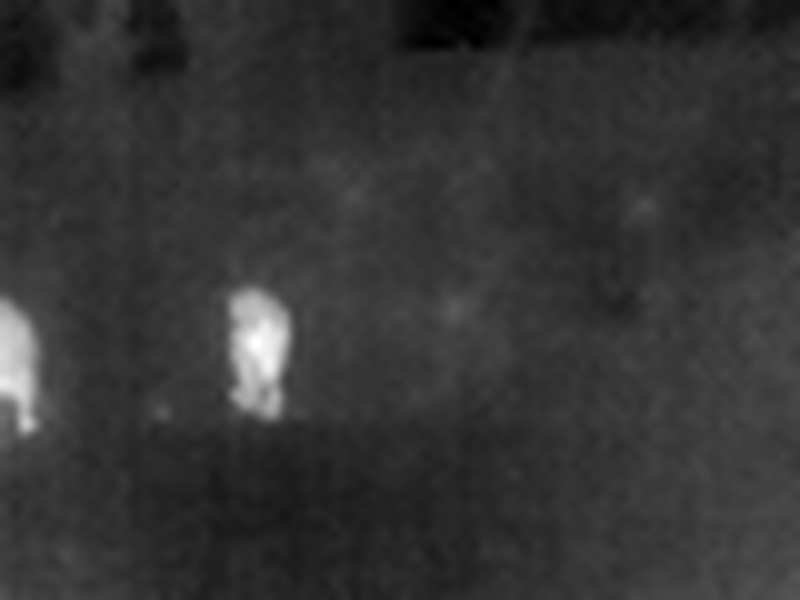elephant: (199, 276, 317, 446), (1, 286, 52, 464)
